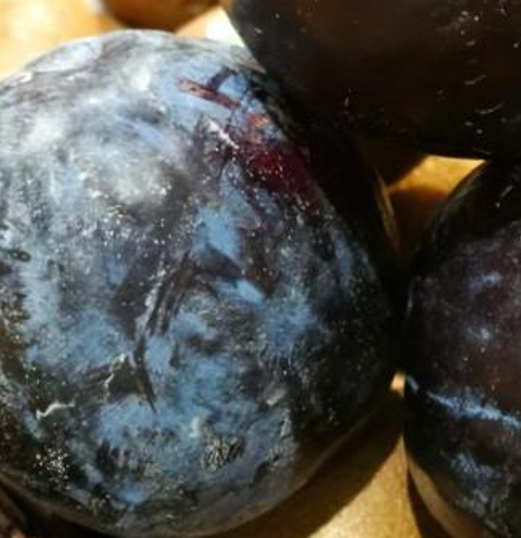plum_B: (1, 30, 413, 538)
